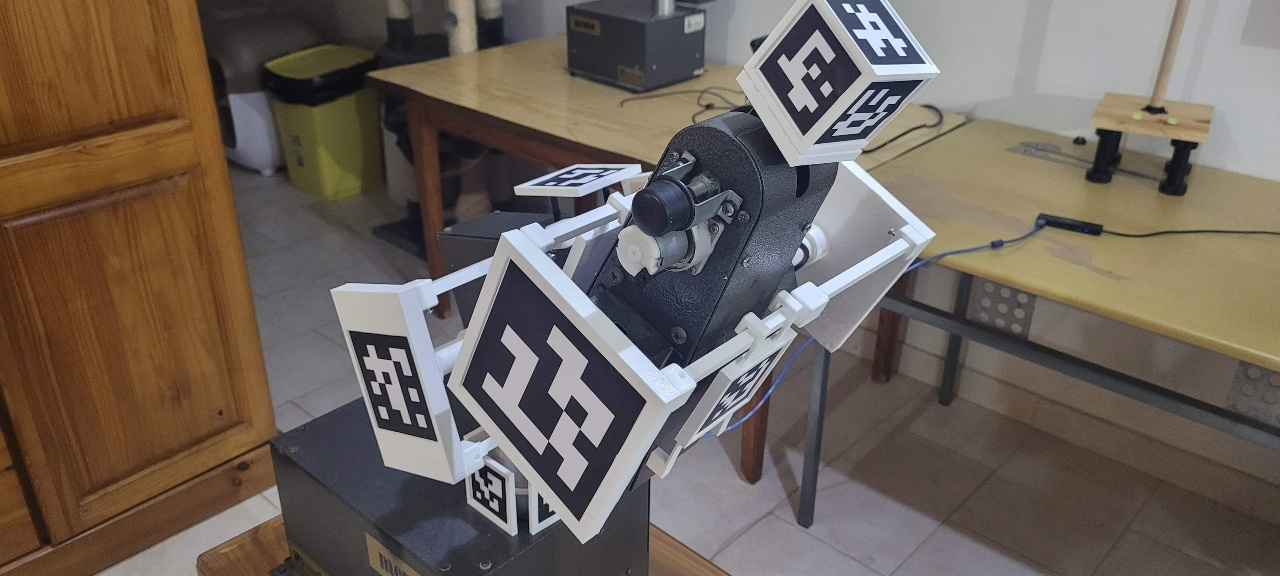Robot: (353, 20, 826, 576)
